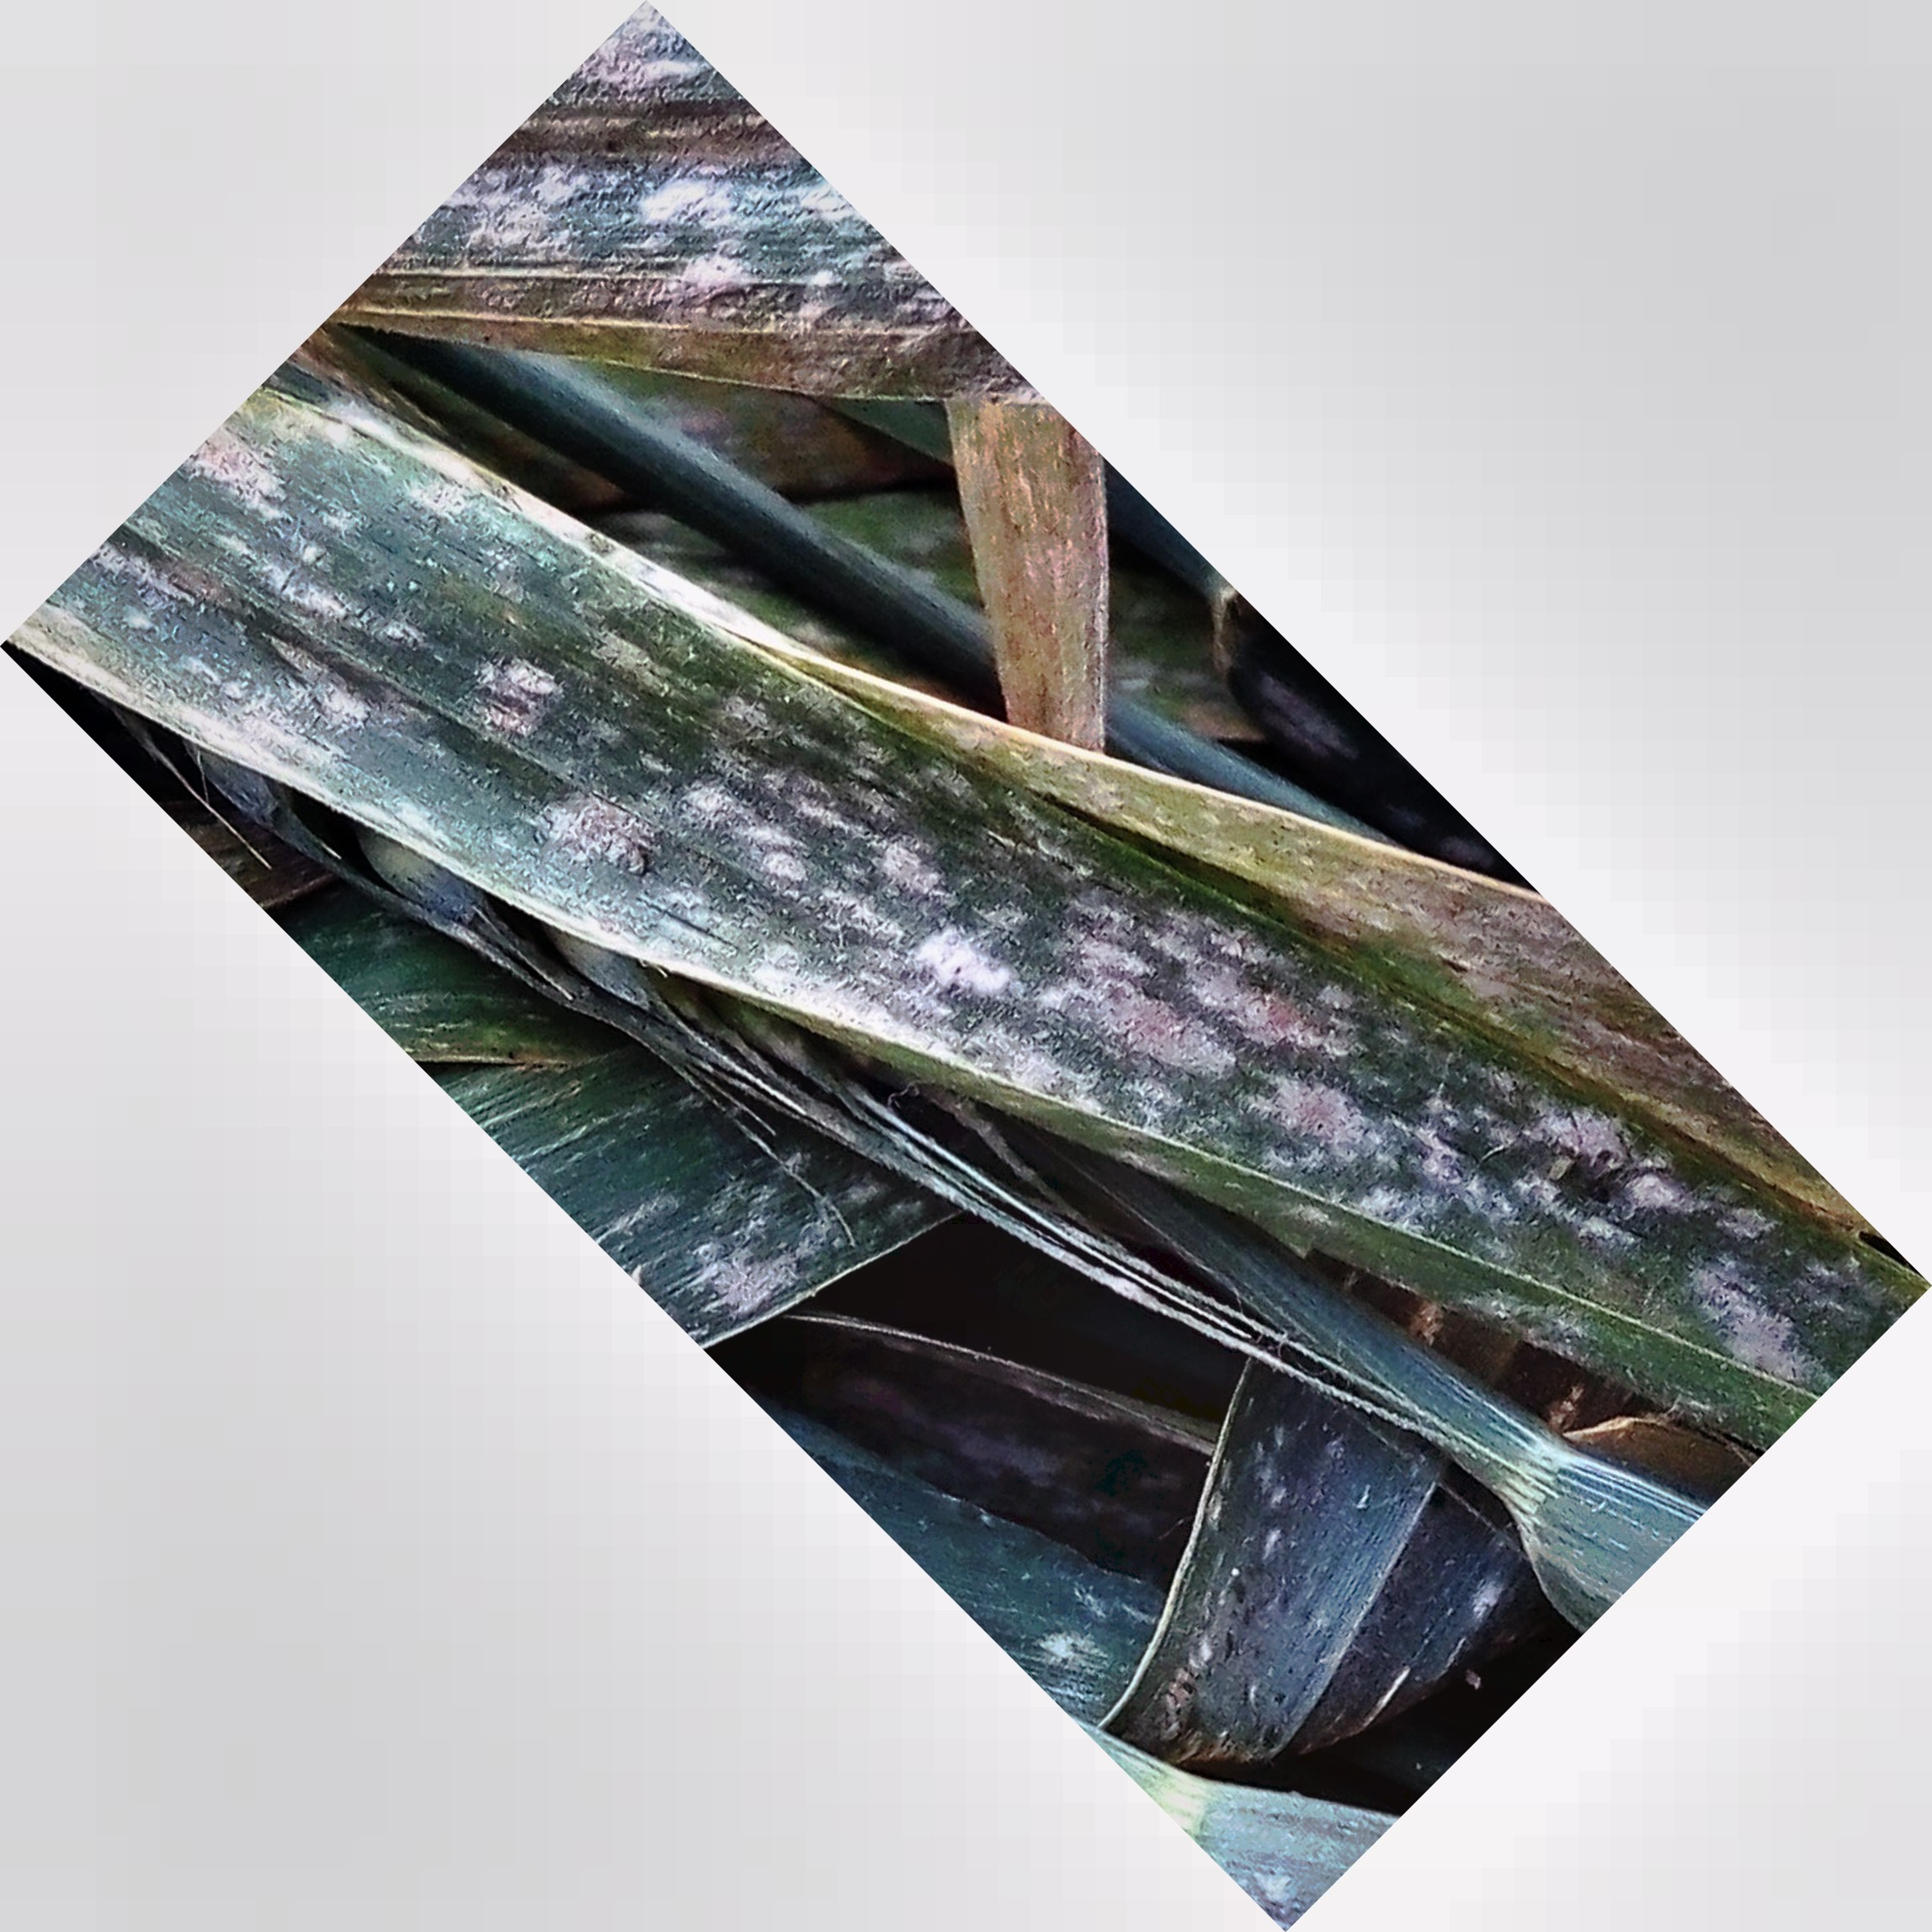Powdery Mildew: (308, 557, 1546, 1249)
